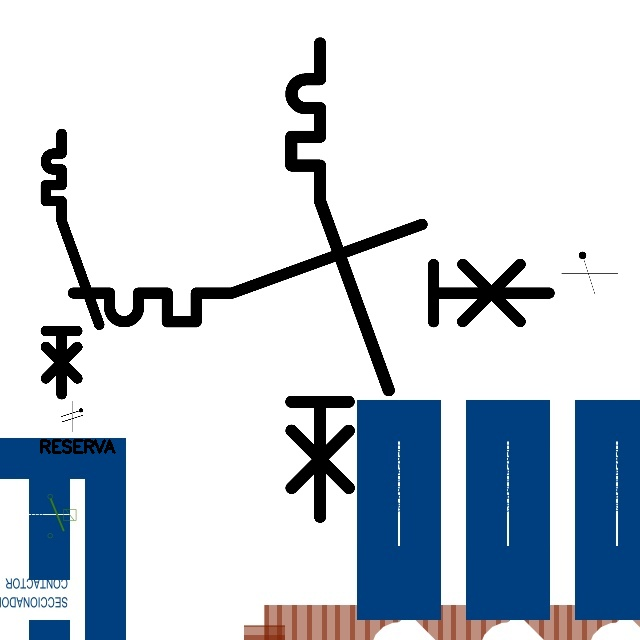interruptor_termomagnetico: (61, 212, 562, 334), (279, 31, 401, 529), (39, 127, 106, 401)
